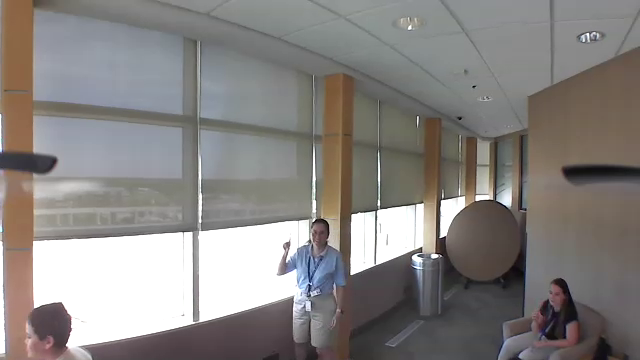up: (279, 233, 294, 254)
